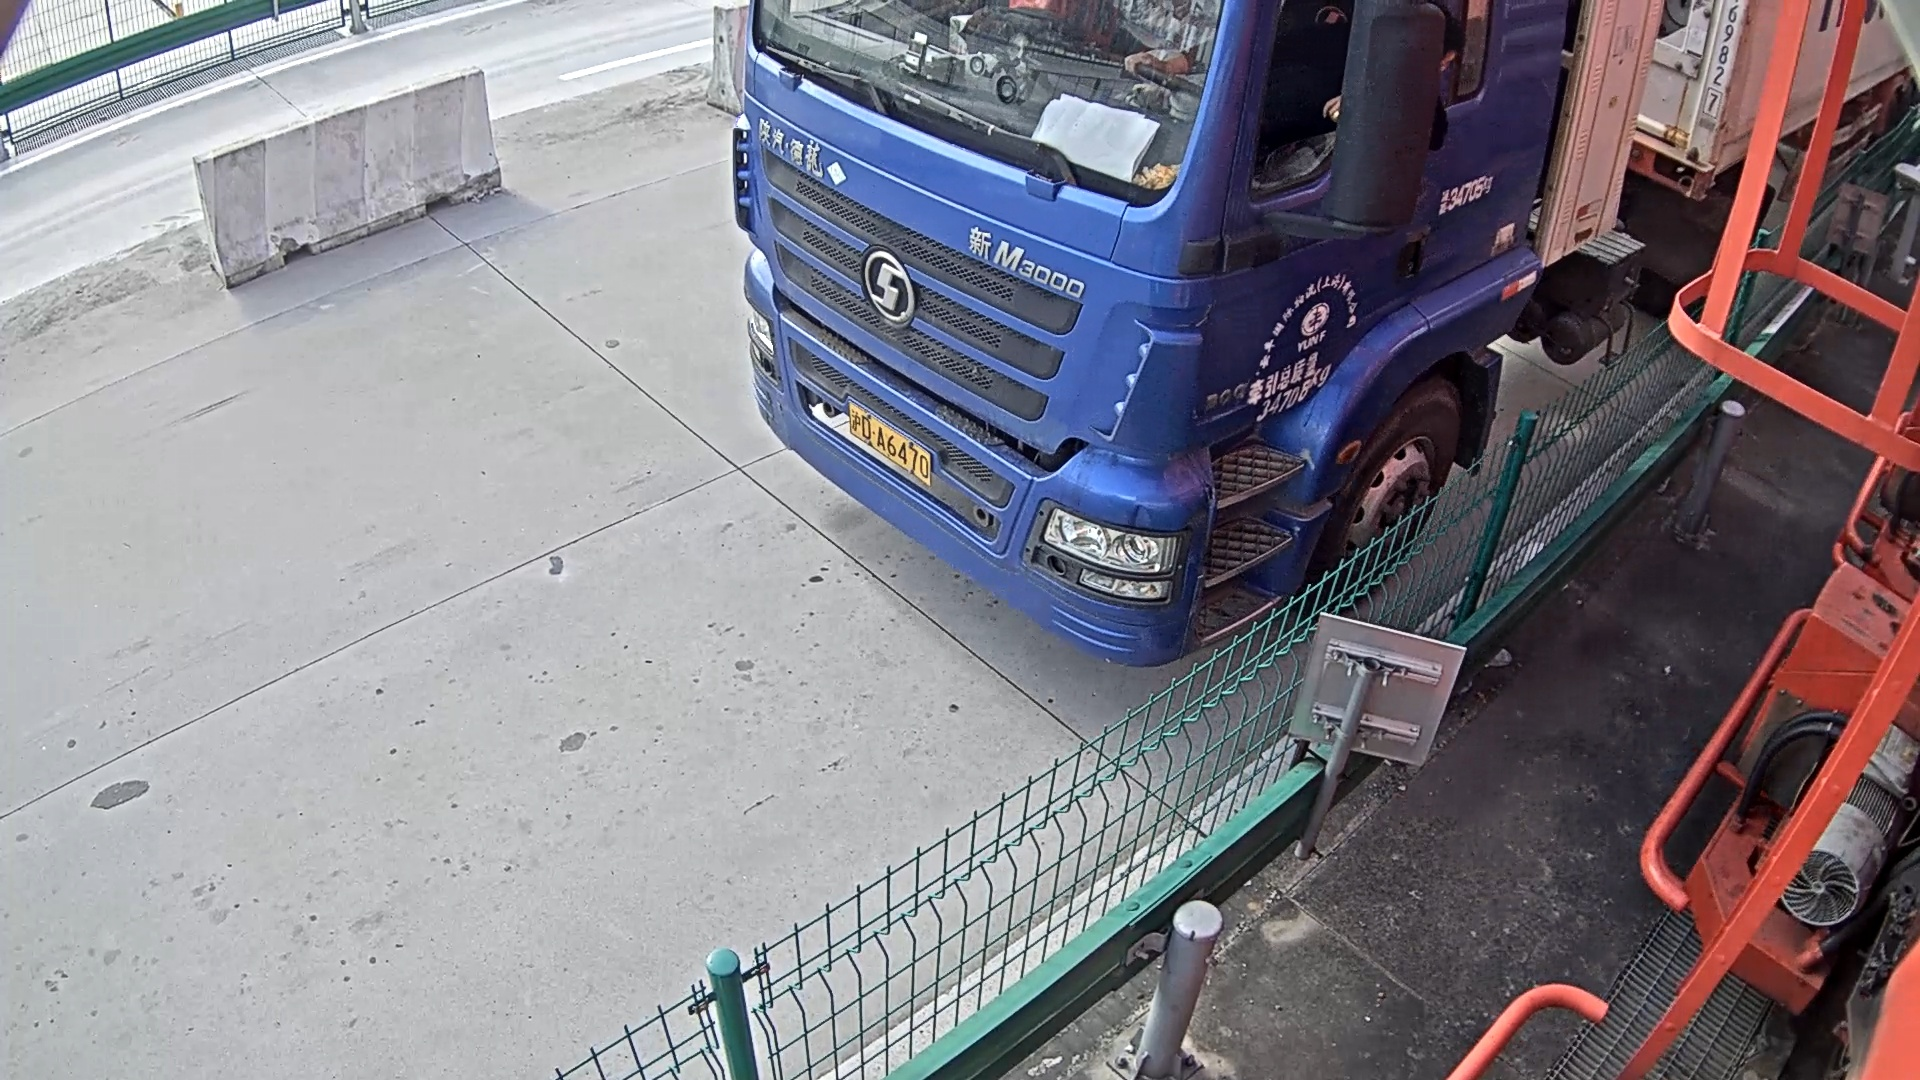head: (736, 4, 1629, 624)
plate: (846, 405, 934, 488)
